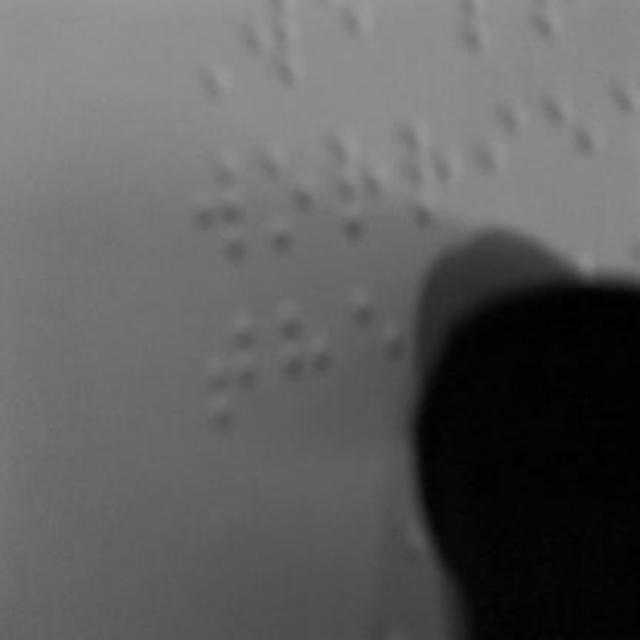braiile: (256, 119, 328, 263), (345, 276, 417, 416), (401, 98, 473, 232), (274, 290, 340, 434), (203, 291, 267, 437), (332, 108, 398, 248), (192, 134, 258, 268), (546, 85, 608, 223), (474, 94, 536, 222)
